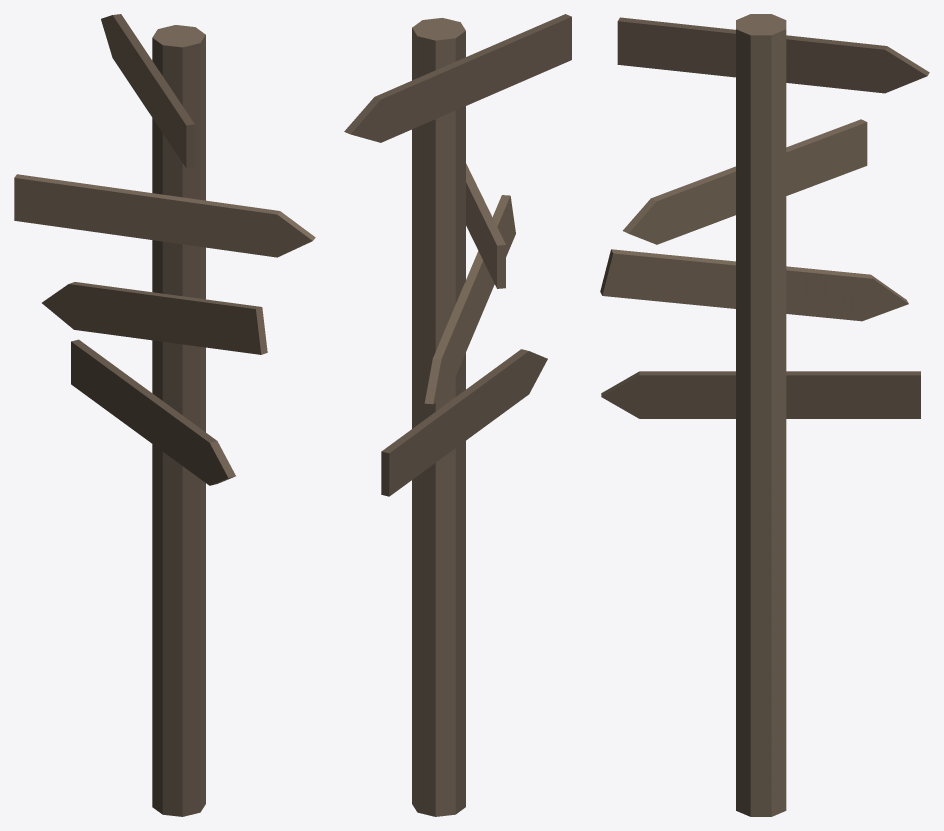
Rendered from sign_01.fbx.
3 views of the same model, side by side, from view 1: azimuth 30°, elevation 25°; view 2: azimuth 150°, elevation 25°; view 3: azimuth 270°, elevation 25° (orthographic).
Parts seen in each view (by area): view 1: sign_01; view 2: sign_01; view 3: sign_01.
Boxes of the visible parts, <box> form: sign_01: <box>14,14,315,816</box>; sign_01: <box>344,14,571,816</box>; sign_01: <box>600,14,929,816</box>.
Bounding box in the file's own units: 0.9353 × 1.41 × 3.68.
